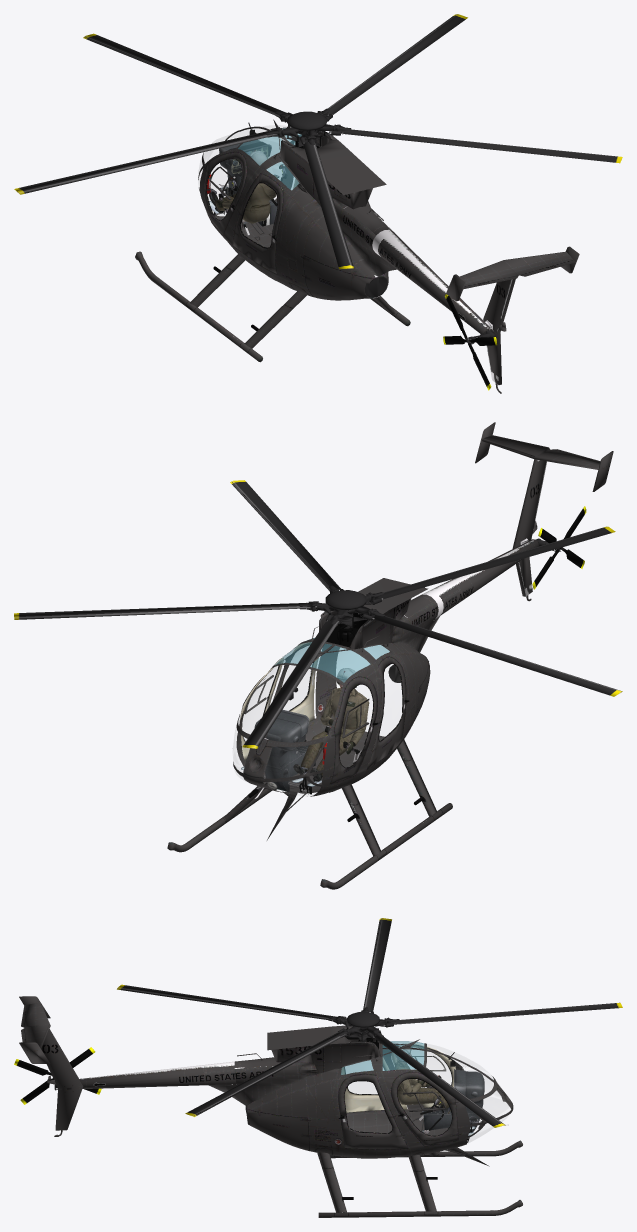
3 views of the same model, one above another, from view 1: azimuth 30°, elevation 25°; view 2: azimuth 150°, elevation 25°; view 3: azimuth 270°, elevation 25° (orthographic). The views are drawn at different scales.
Parts seen in each view (by area): view 1: ext_fuse1, rotor_main, ext_fuse1_doors, ext_skids, int_pilotR, glasss_grn, int_console, rotor_tail, ext_fuse1.001; view 2: ext_fuse1, rotor_main, ext_fuse1_doors, ext_skids, ext_fuse1.001, int_pilotR, int_console, glasss_grn, glass, rotor_tail; view 3: ext_fuse1, rotor_main, ext_fuse1_doors, ext_skids, ext_fuse1.001, glass, int_console, int_pilotR, glasss_grn, rotor_tail.
Boxes of the visible parts, x1,y1,x2,y2 form: ext_fuse1: (198,119,579,393); rotor_main: (14,14,622,269); ext_fuse1_doors: (204,152,299,273); ext_skids: (135,251,410,362); int_pilotR: (209,150,277,223); glasss_grn: (238,128,301,190); int_console: (206,139,277,226); rotor_tail: (443,294,497,390); ext_fuse1.001: (213,134,301,247); ext_fuse1: (233,422,613,840); rotor_main: (14,480,622,748); ext_fuse1_doors: (239,642,409,783); ext_skids: (167,739,452,889); ext_fuse1.001: (236,642,384,793); int_pilotR: (293,668,369,781); int_console: (254,709,326,791); glasss_grn: (274,638,389,682); glass: (233,665,310,781); rotor_tail: (532,506,586,589); ext_fuse1: (19,996,513,1166); rotor_main: (117,918,622,1127); ext_fuse1_doors: (338,1043,458,1149); ext_skids: (317,1140,522,1217); ext_fuse1.001: (346,1044,463,1135); glass: (348,1044,509,1143); int_console: (423,1069,484,1132); int_pilotR: (394,1043,449,1108); glasss_grn: (341,1041,424,1074); rotor_tail: (14,1047,101,1104).
Bounding box in the file's own units: 7.48 × 2.89 × 9.2.
Materials: 9 (9 with a texture image).
